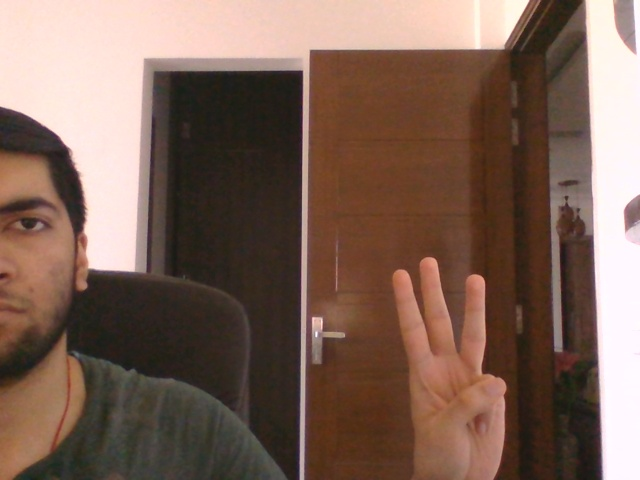LetterW: (388, 255, 511, 477)
